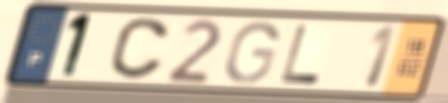1: (360, 22, 399, 92), (59, 11, 96, 82)
2: (165, 16, 226, 85)
C: (106, 15, 173, 81)
G: (222, 19, 283, 86)
L: (277, 22, 322, 87)
